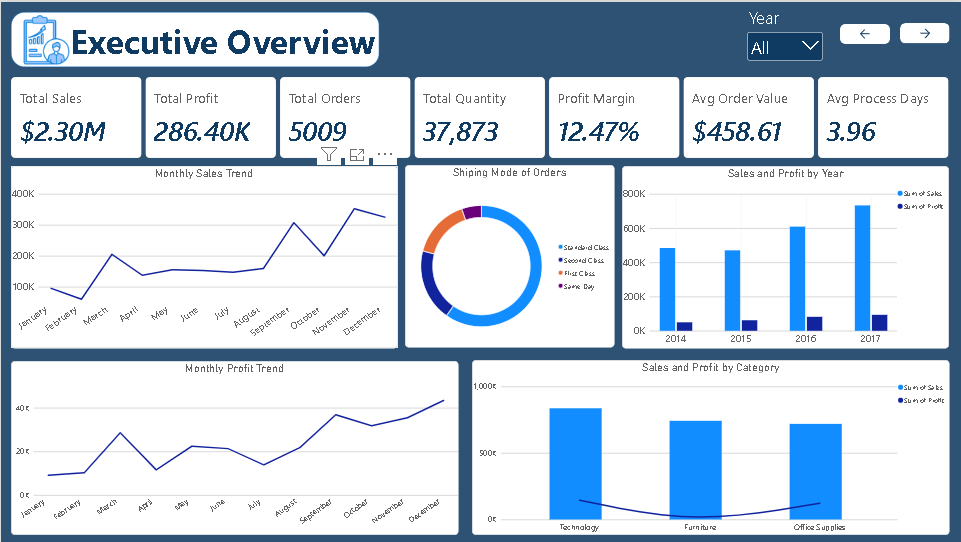

This screenshot's page, from the dashboard's own definition file:
{"tool":"powerbi","page":{"name":"Executive Overview","canvas":[1920,1080],"ordinal":1},"visuals":[{"type":"shape","box":[19.4,19.4,736.6,110.2],"z":0},{"type":"cardVisual","fields":{"Data":["Superstore_Cleaned.Total Sales","Superstore_Cleaned.Total Profit","Superstore_Cleaned.Total Orders","Superstore_Cleaned.Total Quantity","Superstore_Cleaned.Profit Margin","Superstore_Cleaned.Average Order Value","Superstore_Cleaned.Average Processing Days"]},"box":[19.4,149,1877,162],"z":1000},{"type":"image","box":[36.7,25.9,110.2,99.4],"z":2000},{"type":"lineChart","title":"Monthly Sales Trend","fields":{"Category":["Superstore_Cleaned.Order Date.Variation.Date Hierarchy.Month"],"Y":["Sum(Superstore_Cleaned.Sales)"]},"box":[20.8,327.1,772.9,364.6],"z":3000},{"type":"slicer","fields":{"Values":["Superstore_Cleaned.Order Date.Variation.Date Hierarchy.Year"]},"box":[1488.2,6.5,159.6,123.4],"z":4000},{"type":"lineChart","title":"Monthly Profit Trend","fields":{"Category":["Superstore_Cleaned.Order Date.Variation.Date Hierarchy.Month"],"Y":["Sum(Superstore_Cleaned.Profit)"]},"box":[19.6,717.9,894.6,348.2],"z":5000},{"type":"donutChart","title":"Shiping Mode of Orders","fields":{"Category":["Superstore_Cleaned.Ship Mode"],"Y":["Count(Superstore_Cleaned.Order ID)"]},"box":[808.3,325,418.8,364.6],"z":6000},{"type":"lineClusteredColumnComboChart","title":"Sales and Profit by Category","fields":{"Category":["Superstore_Cleaned.Category"],"Y":["Sum(Superstore_Cleaned.Sales)"],"Y2":["Sum(Superstore_Cleaned.Profit)"]},"box":[941.1,716.1,955.4,350],"z":7000},{"type":"clusteredColumnChart","title":"Sales and Profit by Year","fields":{"Category":["Superstore_Cleaned.Order Date.Variation.Date Hierarchy.Year"],"Y":["Sum(Superstore_Cleaned.Sales)","Sum(Superstore_Cleaned.Profit)"]},"box":[1241.7,327.1,654.2,364.6],"z":8000},{"type":"actionButton","box":[1678.3,43.2,100,40],"z":9000},{"type":"actionButton","box":[1797.1,41,99.4,41],"z":10000}]}

Visuals, with their boxes in screenshot pixels (x1, y1, x2, y2), scaled from the page's 1920x1080 canvas onto the 961x542 screenshot:
shape: {"left": 10, "top": 10, "right": 378, "bottom": 65}
cardVisual - Superstore_Cleaned.Total Sales x Superstore_Cleaned.Total Profit: {"left": 10, "top": 75, "right": 949, "bottom": 156}
image: {"left": 18, "top": 13, "right": 74, "bottom": 63}
"Monthly Sales Trend" lineChart: {"left": 10, "top": 164, "right": 397, "bottom": 347}
slicer - Superstore_Cleaned.Order Date.Variation.Date Hierarchy.Year: {"left": 745, "top": 3, "right": 825, "bottom": 65}
"Monthly Profit Trend" lineChart: {"left": 10, "top": 360, "right": 458, "bottom": 535}
"Shiping Mode of Orders" donutChart: {"left": 405, "top": 163, "right": 614, "bottom": 346}
"Sales and Profit by Category" lineClusteredColumnComboChart: {"left": 471, "top": 359, "right": 949, "bottom": 535}
"Sales and Profit by Year" clusteredColumnChart: {"left": 621, "top": 164, "right": 949, "bottom": 347}
actionButton: {"left": 840, "top": 22, "right": 890, "bottom": 42}
actionButton: {"left": 899, "top": 21, "right": 949, "bottom": 41}
